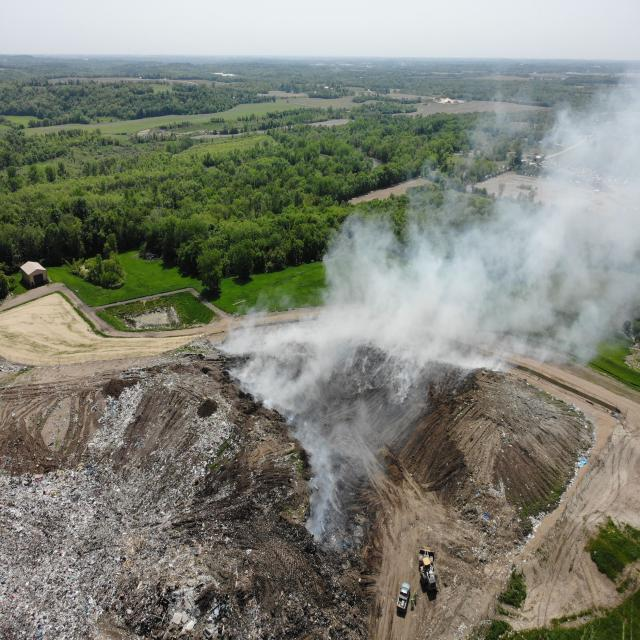Smoke: (284, 67, 638, 477)
